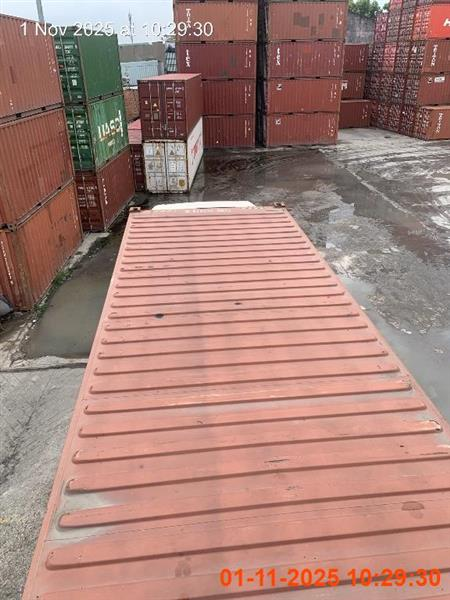scratch: (21, 199, 449, 599)
